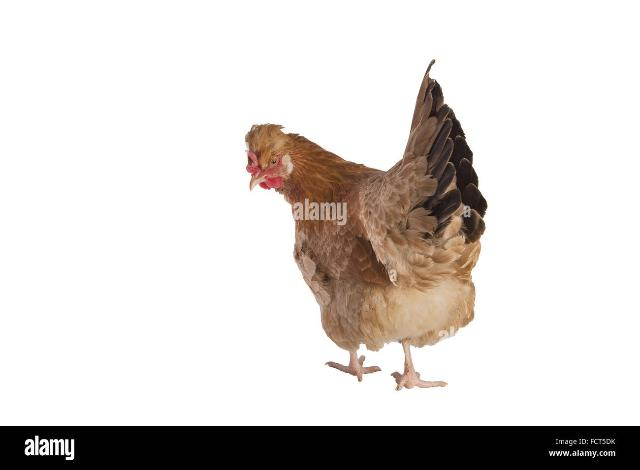Chicken: (246, 56, 489, 391)
